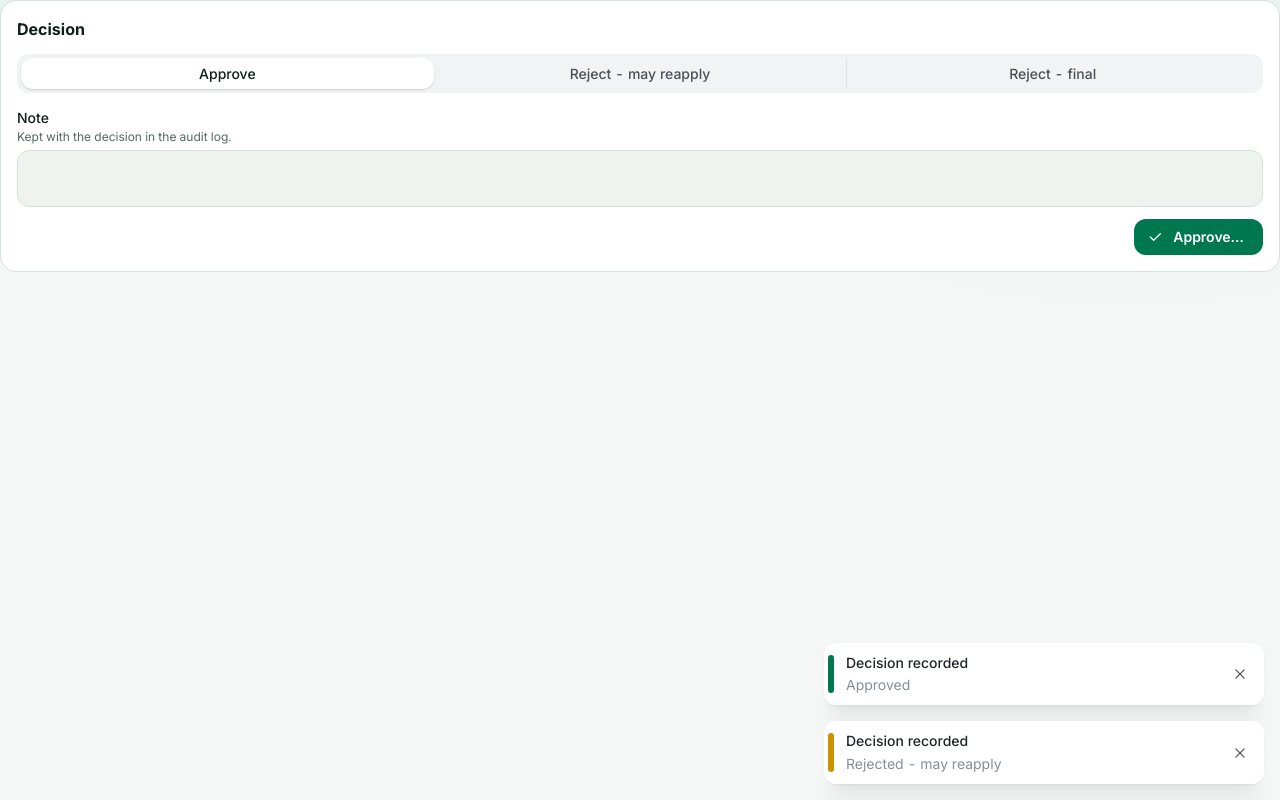
Test: KYC decision › labels the note as a message to the buyer for EMI applications, and warns on a final rejection
Click the radio button labelled "Reject - final".
click(1053, 73)  # box [1009,65,1096,82]
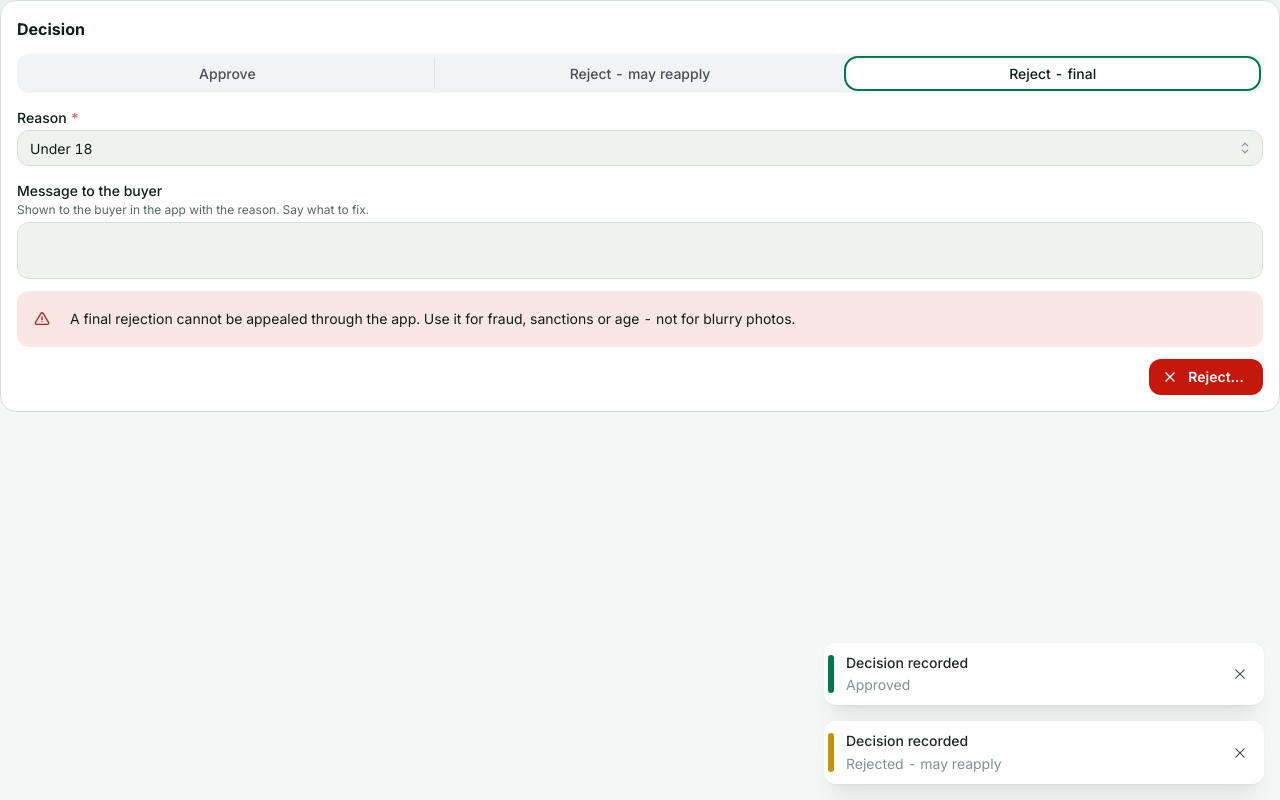
Expected: the text box labelled "Message to the buyer" is shown, [17,222,1263,280]
Result: the text "cannot be appealed" is shown at [70,310,795,328]
Result: the field labelled "Reason *" holds "Under 18" at [17,130,1263,166]
